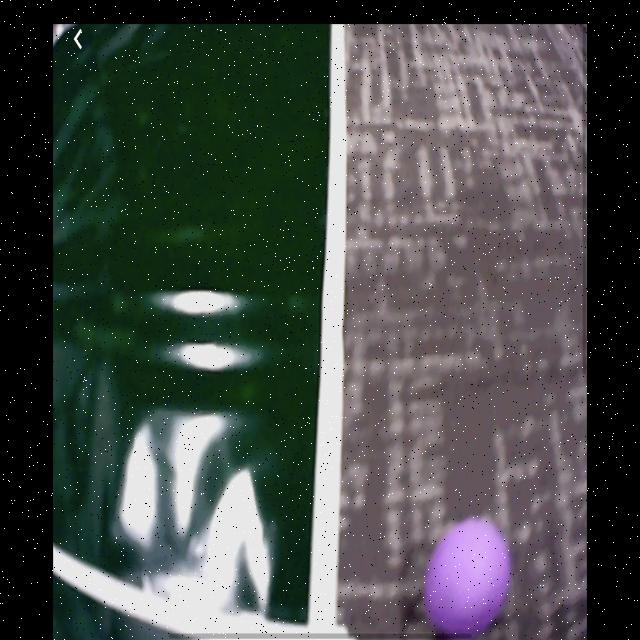ball: (423, 515, 513, 637)
